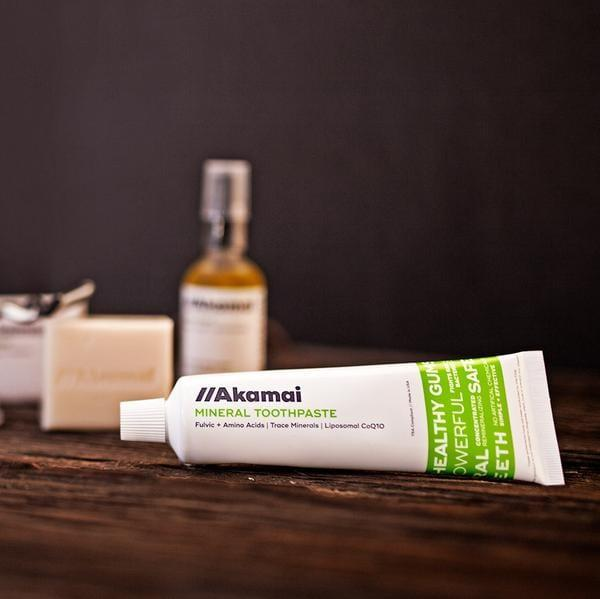toothpaste: (109, 356, 584, 511)
